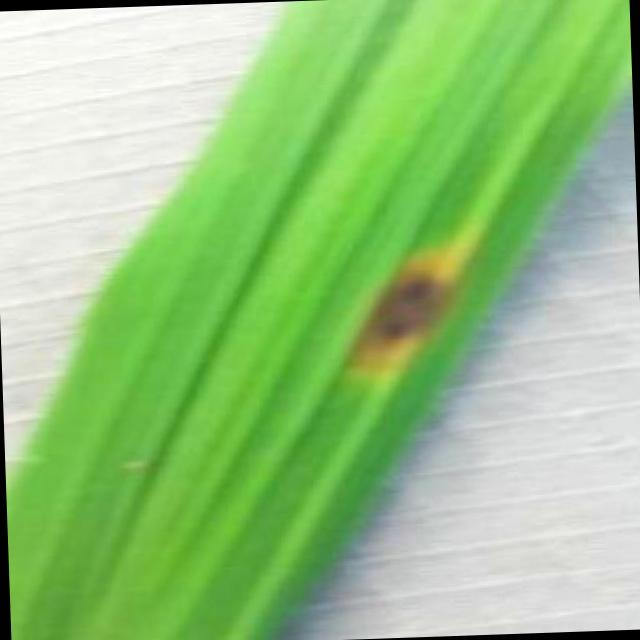Rice_Brownspot: (324, 233, 487, 392)
